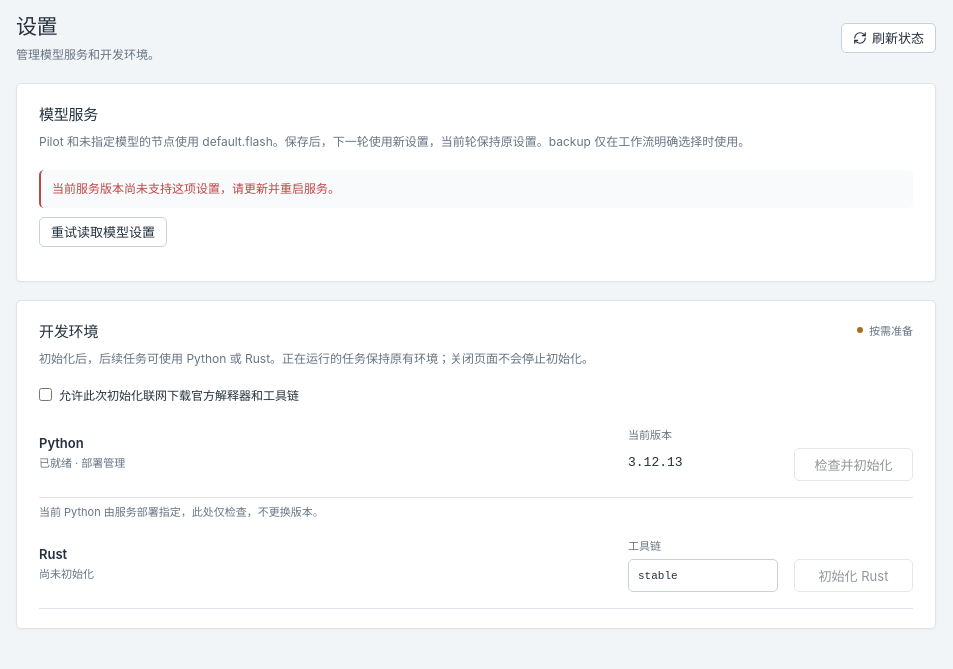
Host settings › refreshes the detected version and clears stale observations when a probe fails
Click the button "刷新状态".
click(888, 38)  # box [841,23,936,53]
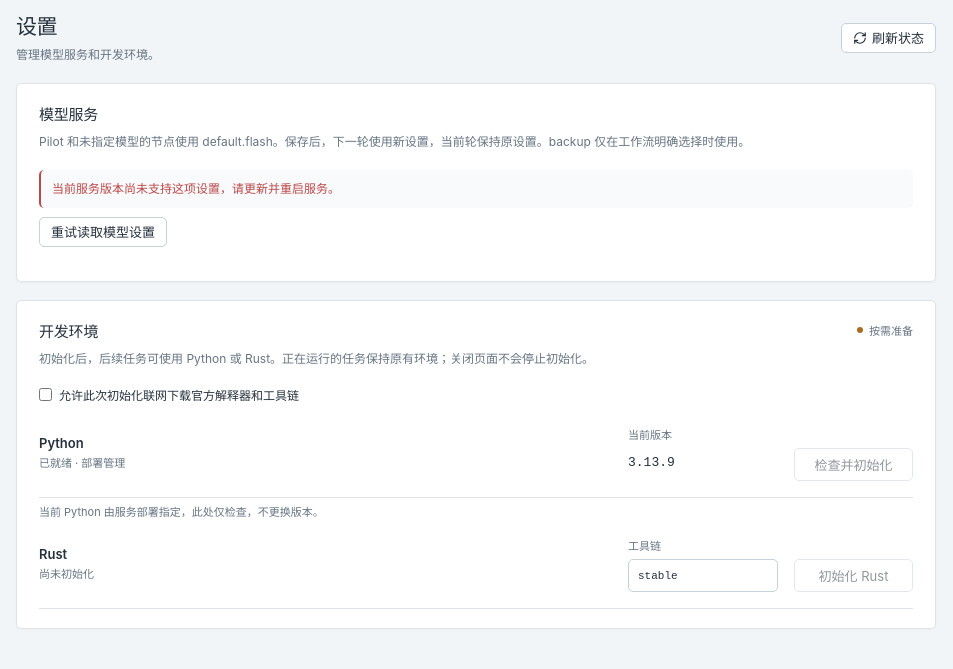
Click the button "刷新状态".
click(888, 38)  # box [841,23,936,53]
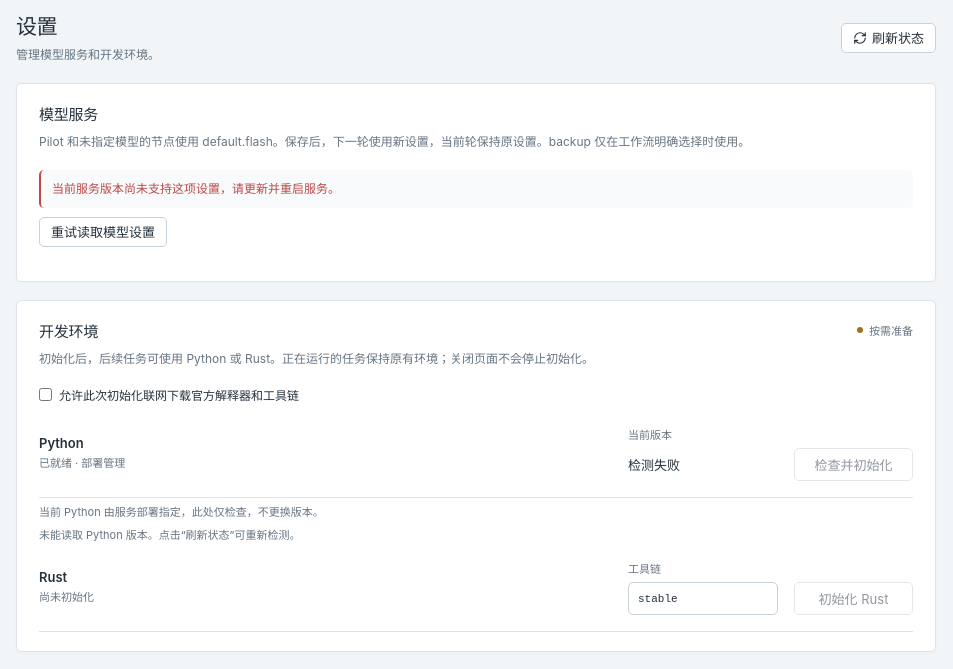
Expected: the text named "Python 版本" reads "检测失败", [628,459,680,474]
Expected: the text "点击“刷新状态”可重新检测" is shown, [39,528,300,542]
Expected: the text "3.13.9" is gone
